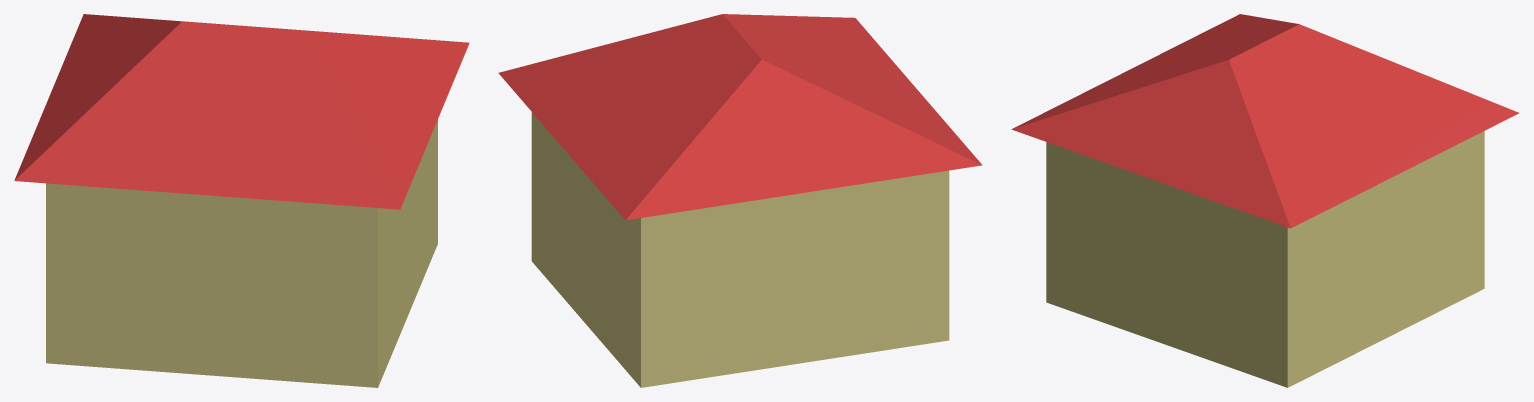
The picture shows the model from 3 angles, left to right: view 1: azimuth 30°, elevation 25°; view 2: azimuth 150°, elevation 25°; view 3: azimuth 270°, elevation 25°; orthographic projection. The views are drawn at different scales.
Parts seen in each view (by area): view 1: group_5, group_3, group_4; view 2: group_5, group_3, group_4; view 3: group_5, group_3, group_4.
Boxes of the visible parts, x1,y1,x2,y2 form: group_5: [46, 120, 437, 387]; group_3: [14, 15, 435, 209]; group_4: [14, 14, 469, 209]; group_5: [531, 112, 949, 387]; group_3: [499, 14, 981, 219]; group_4: [498, 17, 981, 220]; group_5: [1046, 131, 1484, 387]; group_3: [1012, 14, 1484, 228]; group_4: [1011, 14, 1519, 228].
Size of the model in its own units: 20.34 by 20.39 by 11.19.
